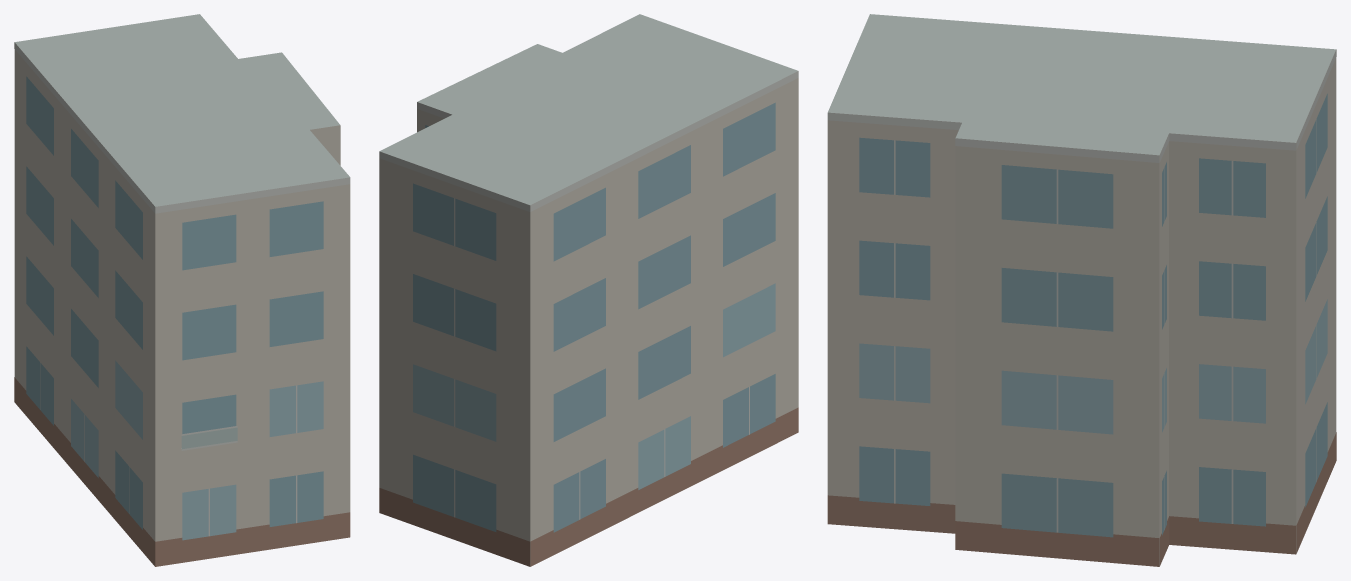
File: survey-upis-32906126.glb
3 views of the same model, side by side, from view 1: azimuth 30°, elevation 25°; view 2: azimuth 150°, elevation 25°; view 3: azimuth 270°, elevation 25° (orthographic). The views are drawn at different scales.
Parts seen in each view (by area): view 1: survey-upis-32906126.tmp; view 2: survey-upis-32906126.tmp; view 3: survey-upis-32906126.tmp.
Boxes of the visible parts, x1=… form: survey-upis-32906126.tmp: x1=14, y1=14, x2=350, y2=566; survey-upis-32906126.tmp: x1=379, y1=14, x2=798, y2=566; survey-upis-32906126.tmp: x1=827, y1=14, x2=1336, y2=566.
Size of the model in its own units: 9.51 by 12.9 by 14.46.
